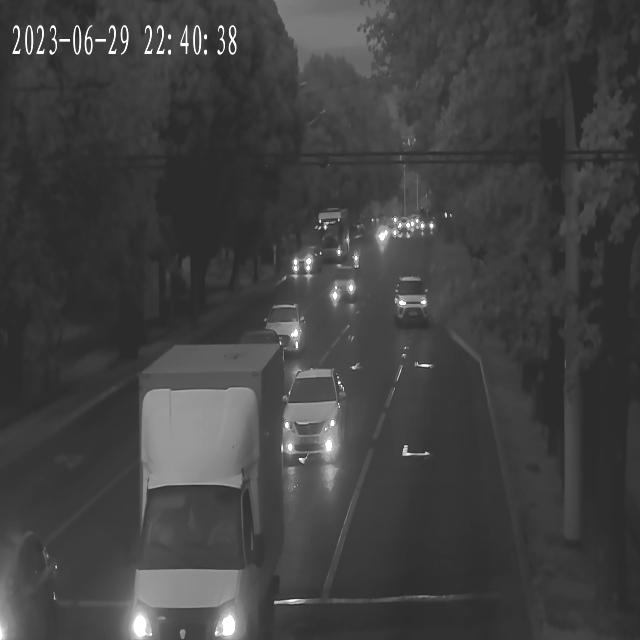Bus: (316, 208, 350, 255)
Car: (0, 516, 65, 632), (282, 368, 350, 471), (261, 304, 306, 349), (395, 278, 432, 324), (331, 268, 359, 307), (291, 254, 314, 274)
Truck: (129, 341, 284, 640)
